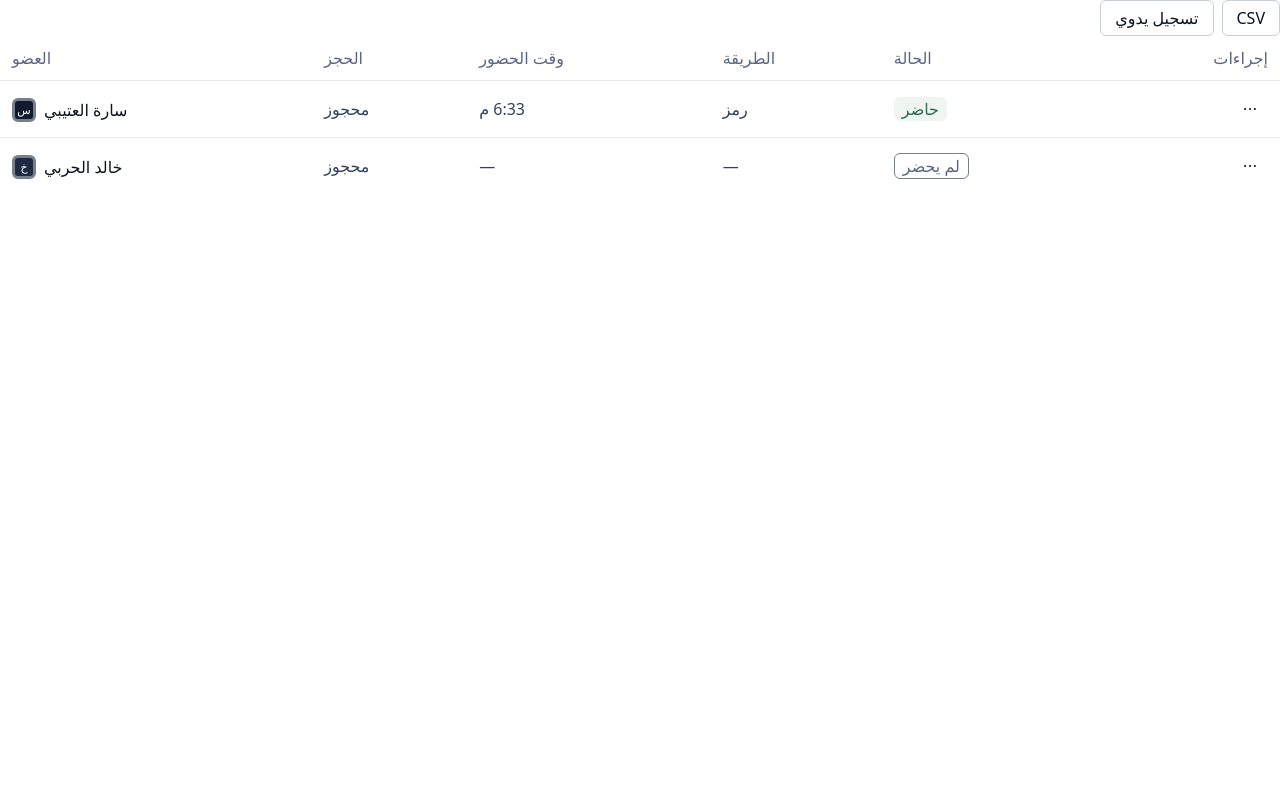
Test: SCR-044's revoke (REQ-CHK-017) › the confirm stays disabled until a reason is given
Click the button named "إجراءات سارة العتيبي".
click(1250, 109)  # box [1232, 91, 1268, 127]
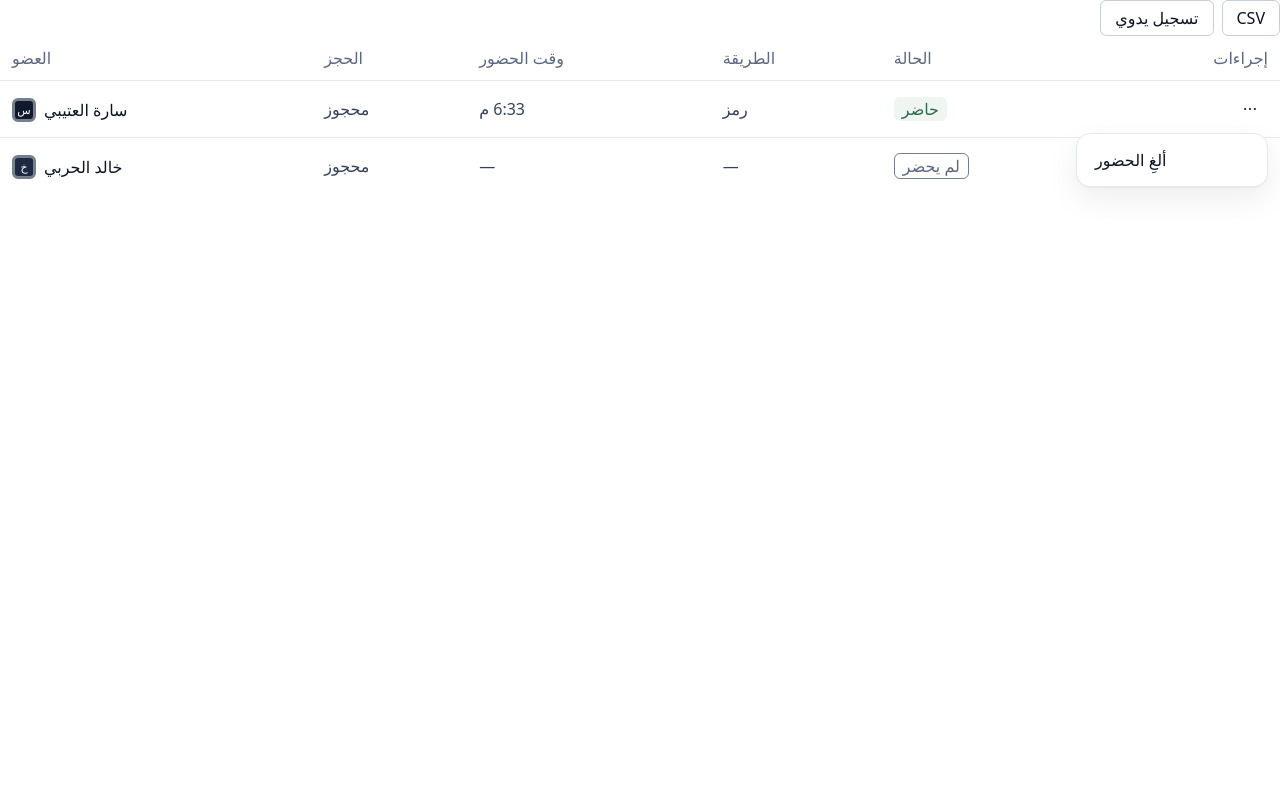
Click the menu item "ألغِ الحضور".
click(1131, 160)  # box [1095, 149, 1166, 171]
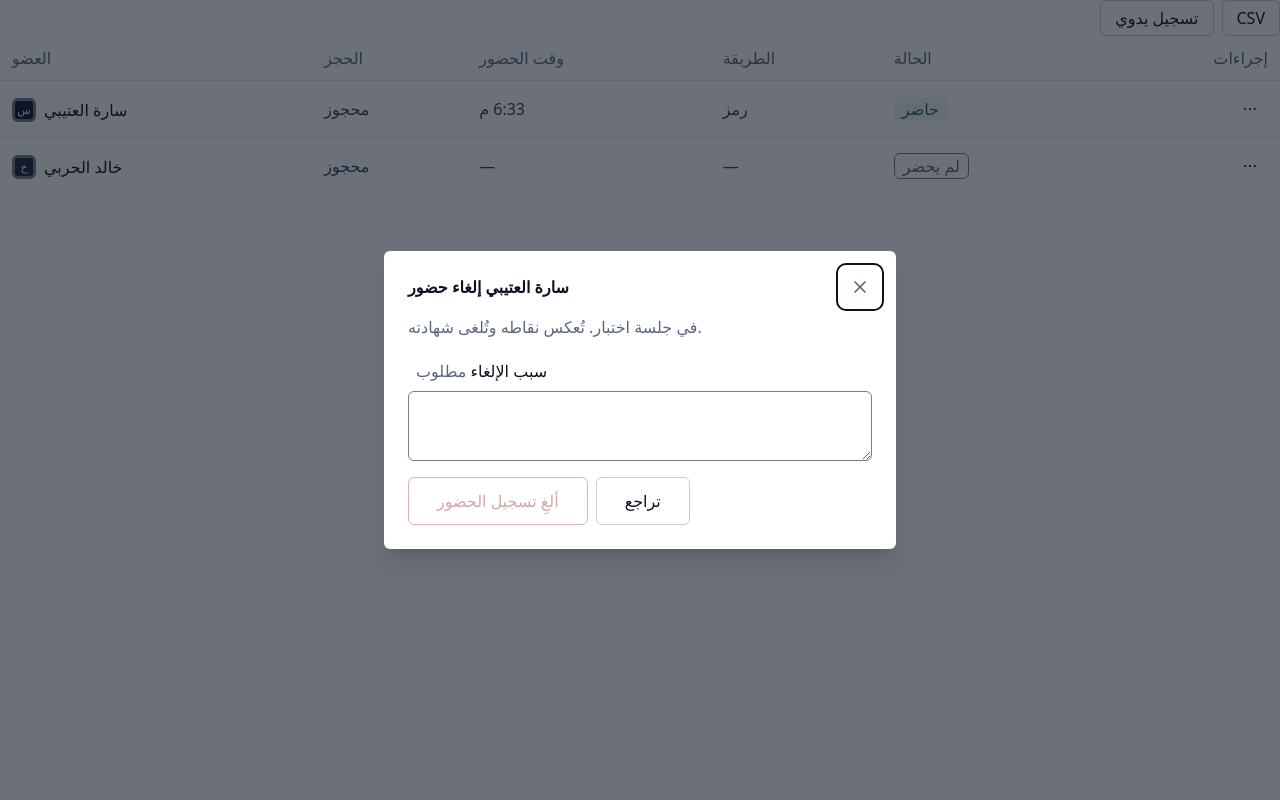
Expected: the button "ألغِ تسجيل الحضور" is disabled, [408, 477, 588, 525]
Type "خطأ في التسجيل" into the text box labelled "سبب الإلغاء".
click(640, 426); type("خطأ في التسجيل")  # box [408, 391, 872, 461]
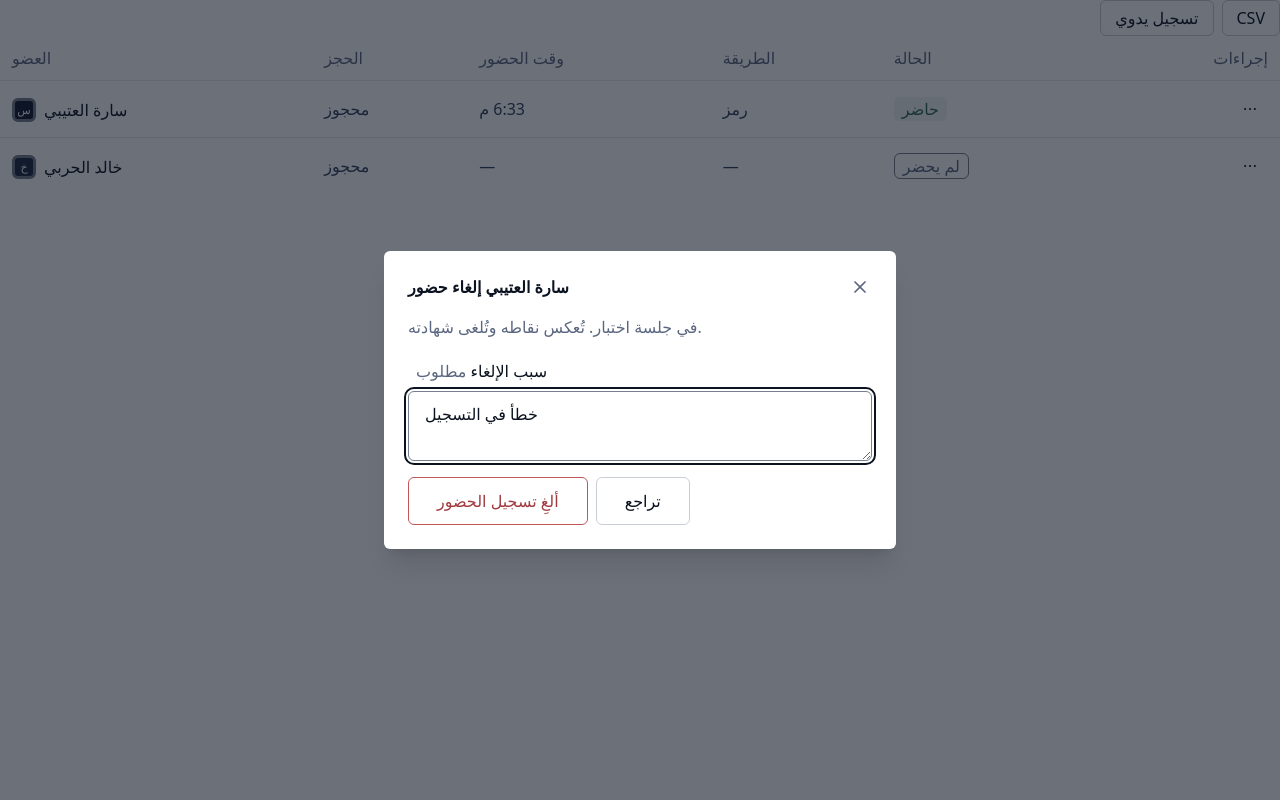
Expected: the button "ألغِ تسجيل الحضور" is enabled, [408, 477, 588, 525]
